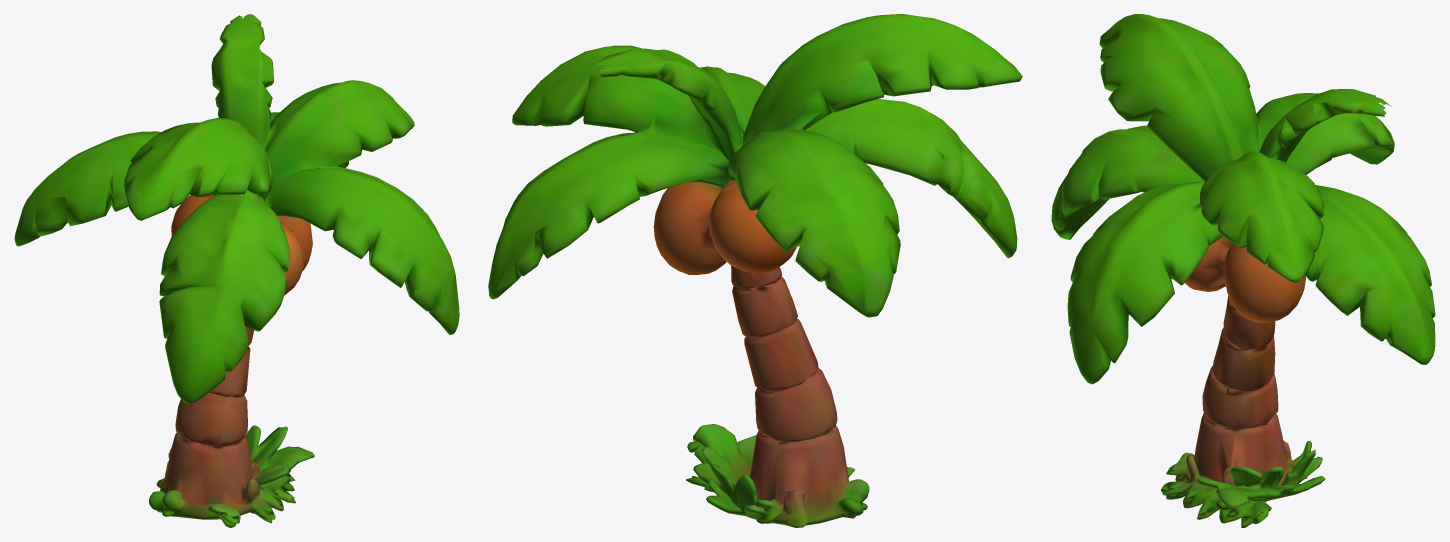
Rendered from tt_palm.glb.
3 views of the same model, side by side, from view 1: azimuth 30°, elevation 25°; view 2: azimuth 150°, elevation 25°; view 3: azimuth 270°, elevation 25° (orthographic). The views are drawn at different scales.
Visible parts, largest first — view 1: tree; view 2: tree; view 3: tree.
Boxes of the visible parts, x1=… form: tree: x1=14, y1=14, x2=459, y2=527; tree: x1=488, y1=14, x2=1022, y2=527; tree: x1=1051, y1=14, x2=1435, y2=527.
Bounding box in the file's own units: 0.9068 × 1 × 0.7955.
Materials: 1 (1 with a texture image).
